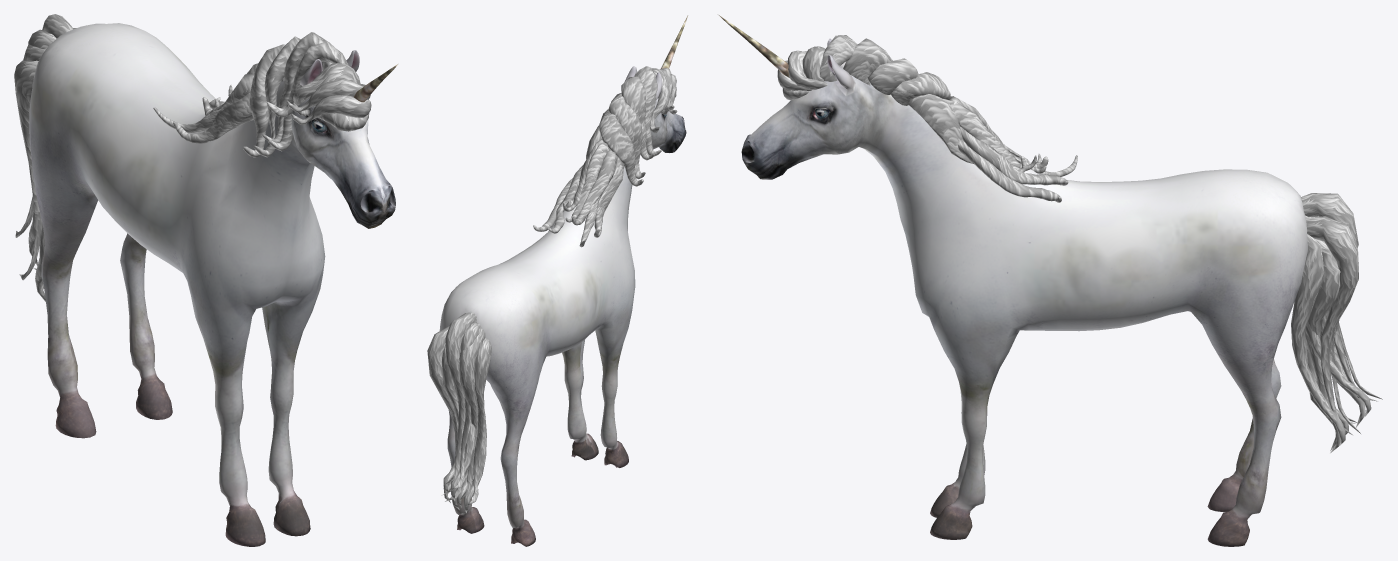
File: Unicorn_v0002.fbx
3 renders of one model, left to right at view 1: azimuth 30°, elevation 25°; view 2: azimuth 150°, elevation 25°; view 3: azimuth 270°, elevation 25°, orthographic. The views are drawn at different scales.
Parts seen in each view (by area): view 1: Row_Mesh3, polySurface19; view 2: Row_Mesh3, polySurface19; view 3: Row_Mesh3, polySurface19.
Boxes of the visible parts, box(x1,y1,x2,y2) form: Row_Mesh3: box(29, 23, 397, 546); polySurface19: box(14, 14, 371, 301); Row_Mesh3: box(439, 15, 687, 546); polySurface19: box(427, 66, 677, 512); Row_Mesh3: box(719, 15, 1307, 546); polySurface19: box(777, 35, 1382, 453).
Size of the model in its own units: 4.1 by 16.26 by 19.3.
Materials: 2 (2 with a texture image).
